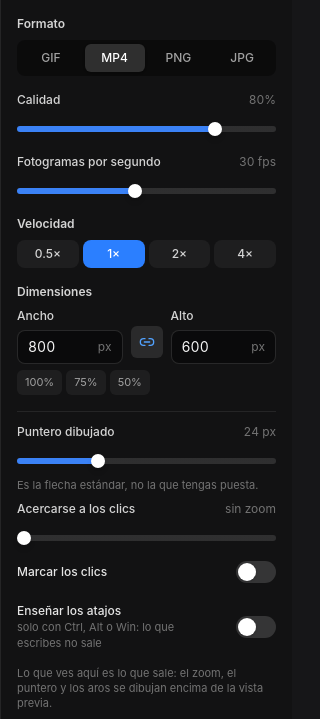
Test: la velocidad › y lo avisa antes de exportar, no despues
Click the button "2×": (179, 254) [148, 240, 210, 268]
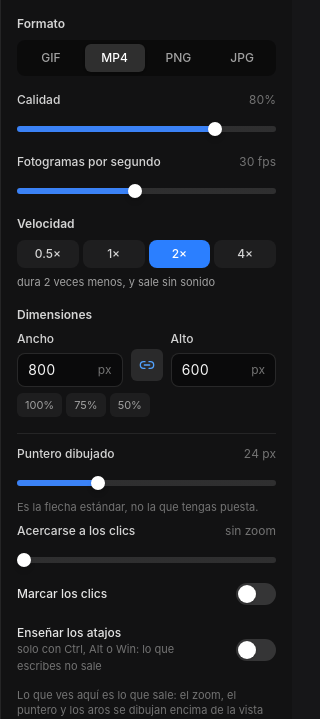
expect the text "dura 2 veces menos, y sale sin sonido" is shown: met, box [17, 275, 215, 289]
